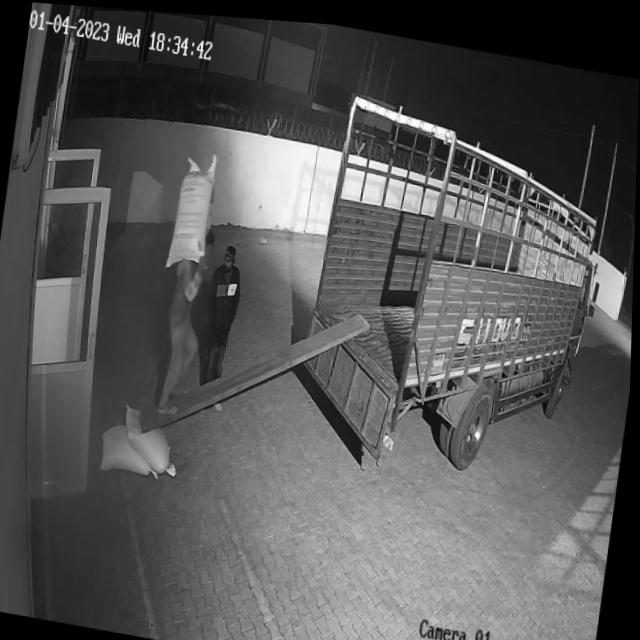sack: (165, 144, 218, 272), (119, 399, 186, 473), (101, 420, 167, 478)
